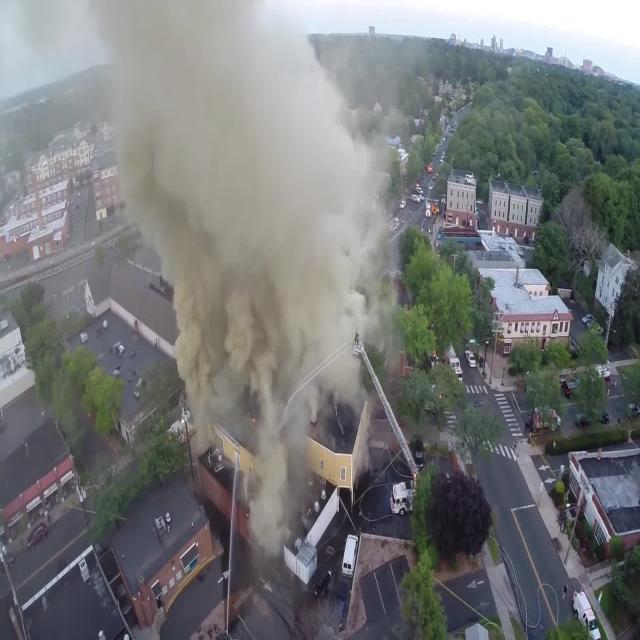Smoke: (97, 0, 419, 469)
